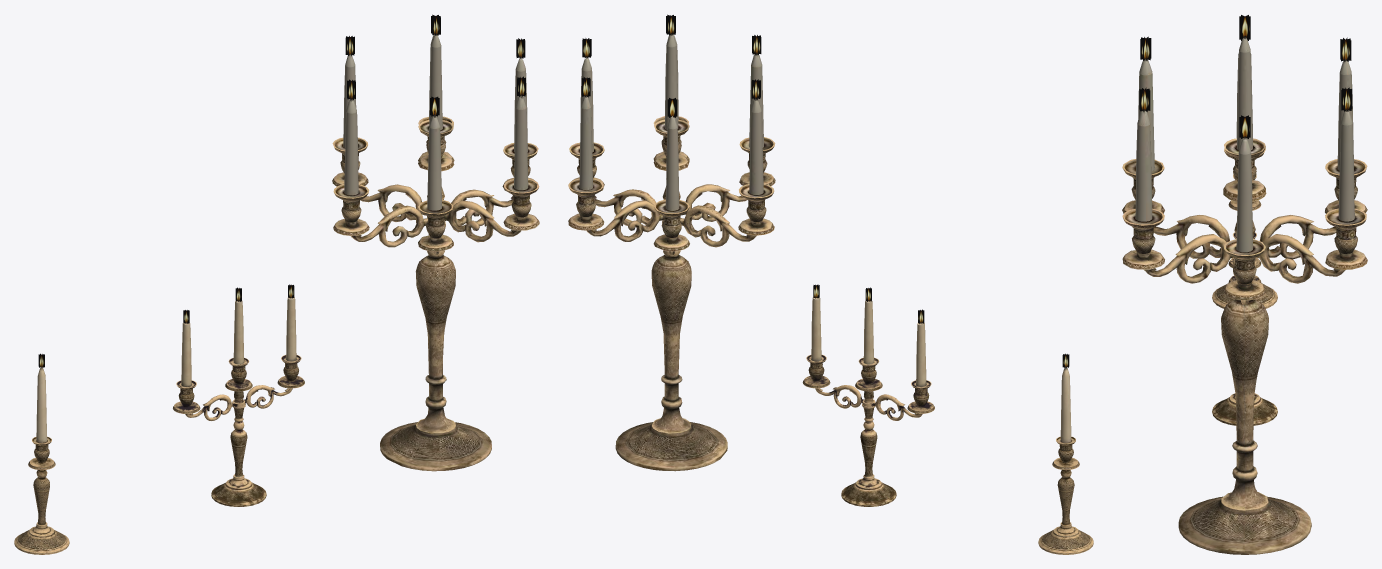
Rendered from brass_candleholders.glb.
The picture shows the model from 3 angles, left to right: view 1: azimuth 30°, elevation 25°; view 2: azimuth 150°, elevation 25°; view 3: azimuth 270°, elevation 25°; orthographic projection. The views are drawn at different scales.
Visible parts, largest first — view 1: brass_candleholder_03, brass_candleholder_02, brass_candleholder_01; view 2: brass_candleholder_03, brass_candleholder_02, brass_candleholder_01; view 3: brass_candleholder_03, brass_candleholder_02, brass_candleholder_01.
Boxes of the visible parts, <box> form: brass_candleholder_03: <box>332,14,539,471</box>; brass_candleholder_02: <box>173,284,304,506</box>; brass_candleholder_01: <box>14,353,69,554</box>; brass_candleholder_03: <box>568,14,775,471</box>; brass_candleholder_02: <box>802,284,934,506</box>; brass_candleholder_01: <box>1038,353,1093,554</box>; brass_candleholder_03: <box>1122,15,1367,554</box>; brass_candleholder_02: <box>1212,232,1277,425</box>; brass_candleholder_01: <box>1212,174,1277,308</box>.
Bounding box in the file's own units: 1.05 × 0.8353 × 0.3644.
5 materials, 5 textured.
